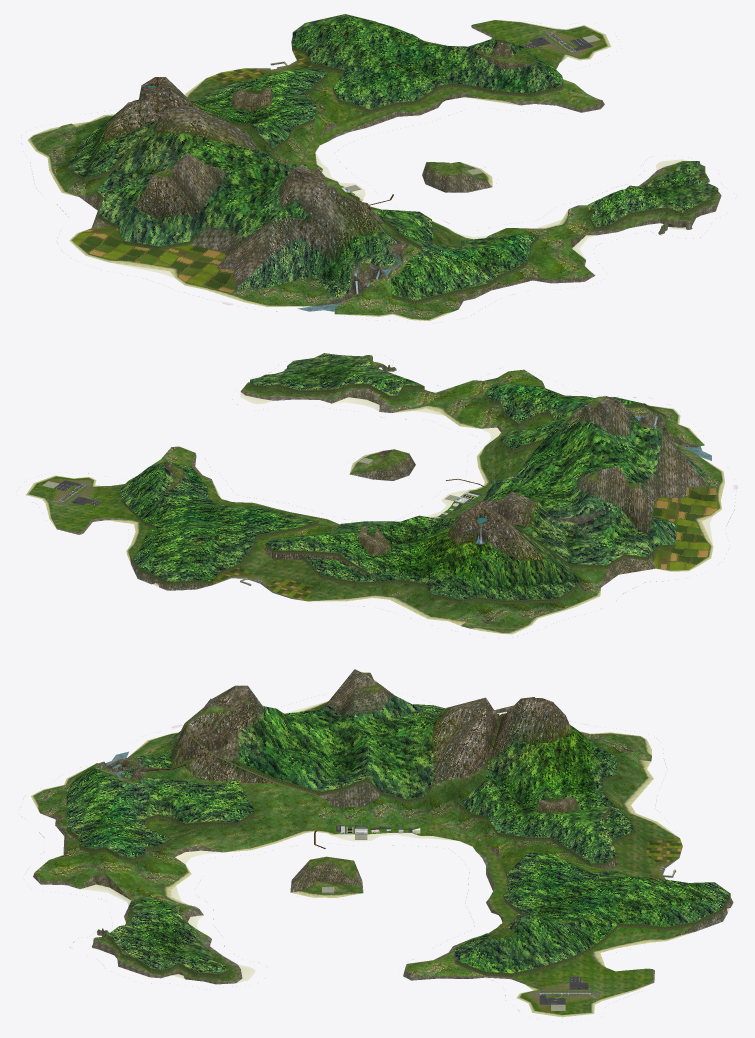
File: world-1.glb
3 views of the same model, one above another, from view 1: azimuth 30°, elevation 25°; view 2: azimuth 150°, elevation 25°; view 3: azimuth 270°, elevation 25° (orthographic). The views are drawn at different scales.
Visible parts, largest first — view 1: world-1; view 2: world-1; view 3: world-1.
Boxes of the visible parts, box(x1,y1,x2,y2) form: world-1: box(16, 14, 738, 323); world-1: box(15, 353, 739, 639); world-1: box(16, 669, 738, 1022).
Size of the model in its own units: 3868 by 502 by 3551.
Materials: 42 (42 with a texture image).
